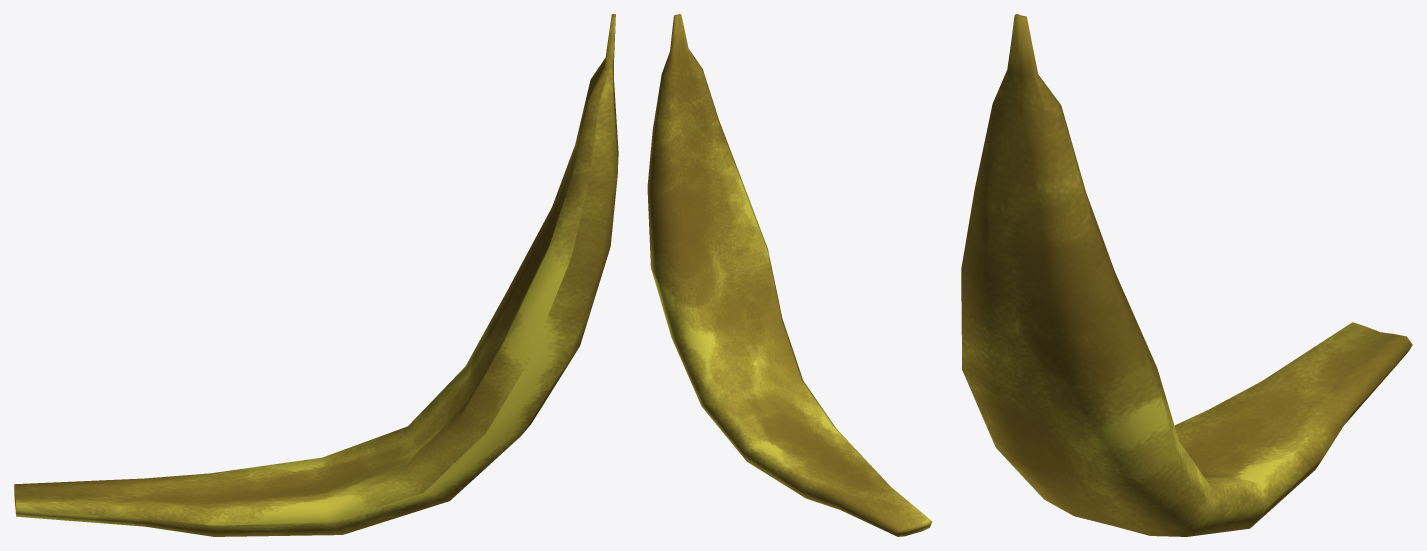
The model's file is bossBananAttack.obj.
The picture shows the model from 3 angles, left to right: view 1: azimuth 30°, elevation 25°; view 2: azimuth 150°, elevation 25°; view 3: azimuth 270°, elevation 25°; orthographic projection. The views are drawn at different scales.
Parts seen in each view (by area): view 1: ベジエカーブ.001; view 2: ベジエカーブ.001; view 3: ベジエカーブ.001.
Part boxes in pixels (<box>): ベジエカーブ.001: <box>14,14,618,536</box>; ベジエカーブ.001: <box>647,14,932,536</box>; ベジエカーブ.001: <box>961,14,1412,536</box>.
Bounding box in the file's own units: 1.16 × 1.14 × 0.7293.
1 material, 1 textured.
